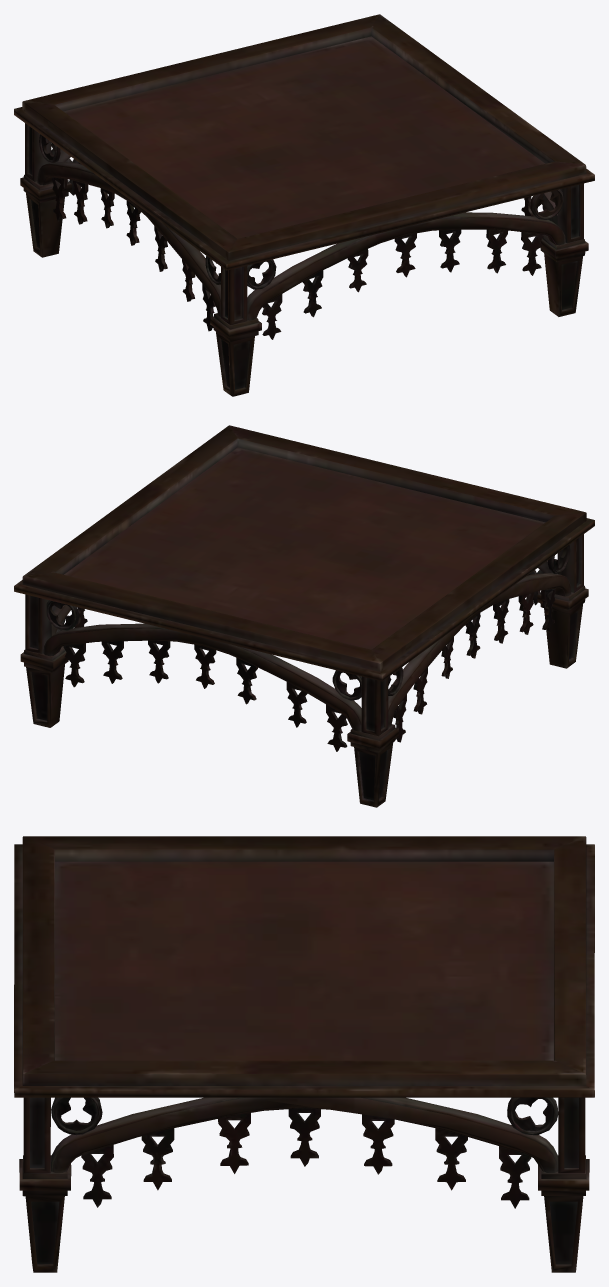
File: gothic_coffee_table.glb
3 renders of one model, top to bottom at view 1: azimuth 30°, elevation 25°; view 2: azimuth 150°, elevation 25°; view 3: azimuth 270°, elevation 25°, orthographic. The views are drawn at different scales.
Visible parts, largest first — view 1: gothic_coffee_table; view 2: gothic_coffee_table; view 3: gothic_coffee_table.
Boxes of the visible parts, x1,y1,x2,y2 form: gothic_coffee_table: (14, 14, 594, 396); gothic_coffee_table: (14, 425, 594, 807); gothic_coffee_table: (14, 836, 594, 1272).
Bounding box in the file's own units: 1.44 × 0.558 × 1.44.
1 material, 1 textured.
